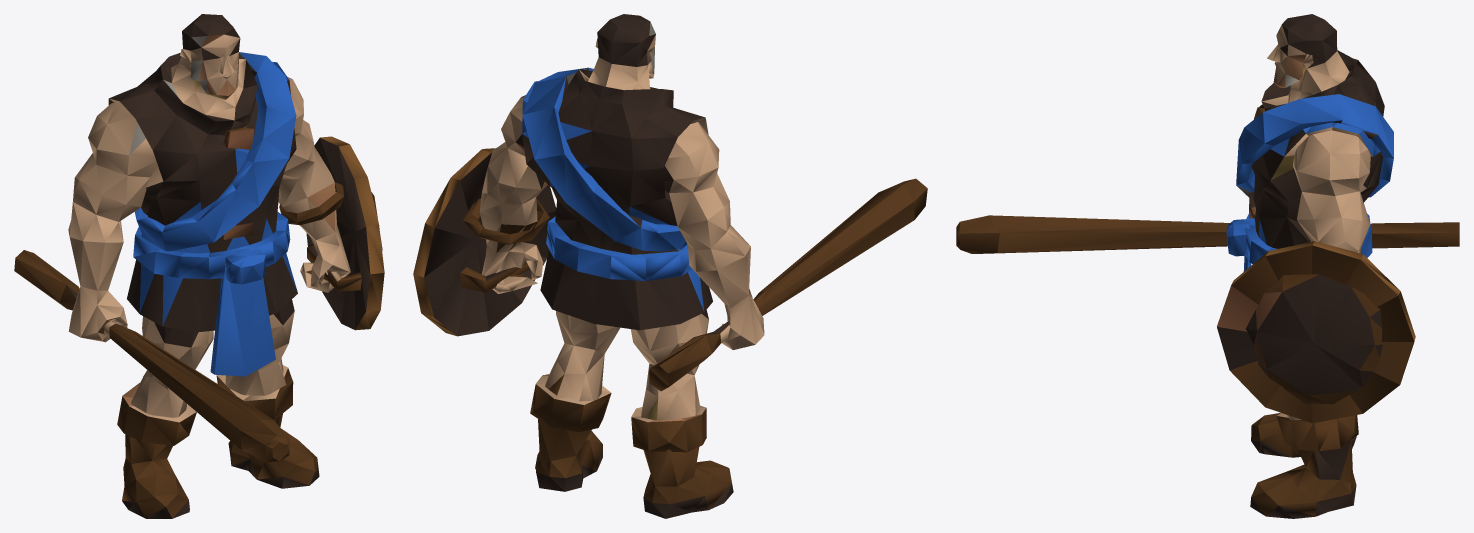
The model's file is unit.warden.glb.
3 views of the same model, side by side, from view 1: azimuth 30°, elevation 25°; view 2: azimuth 150°, elevation 25°; view 3: azimuth 270°, elevation 25° (orthographic). The views are drawn at different scales.
Parts seen in each view (by area): view 1: asset; view 2: asset; view 3: asset.
Part boxes in pixels (x1,y1,x2,y2): asset: [14, 14, 384, 518]; asset: [413, 14, 927, 518]; asset: [956, 14, 1459, 518].
Size of the model in its own units: 0.68 by 1 by 1.
